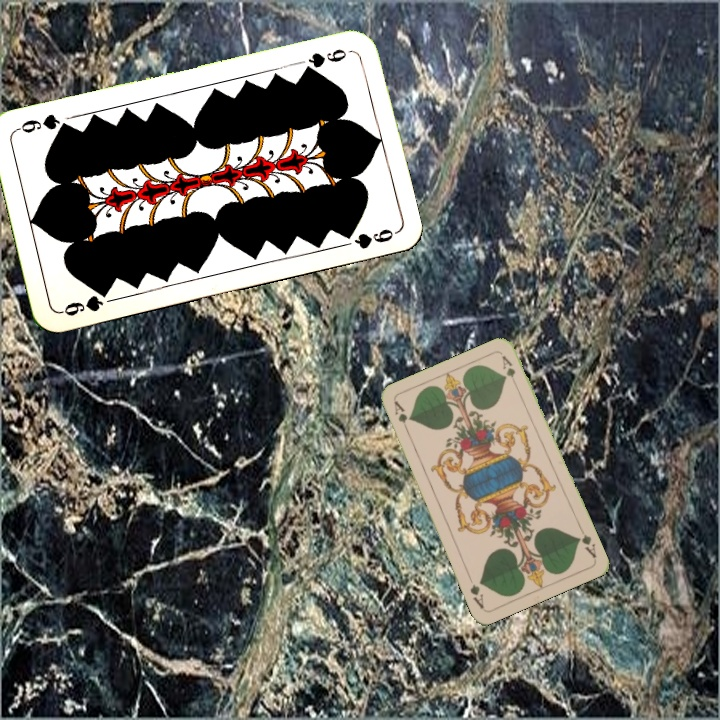G9: (56, 285, 112, 319), (299, 45, 354, 75)
GA: (573, 523, 599, 561), (390, 397, 412, 437)
